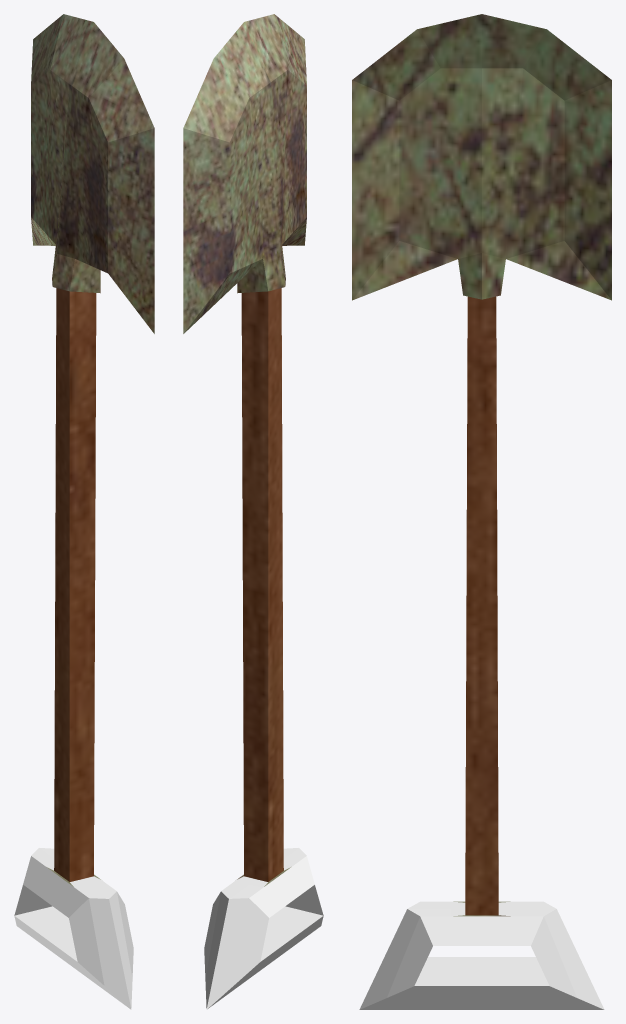
The model's file is lopata.glb.
The picture shows the model from 3 angles, left to right: view 1: azimuth 30°, elevation 25°; view 2: azimuth 150°, elevation 25°; view 3: azimuth 270°, elevation 25°; orthographic projection. The views are drawn at different scales.
Parts seen in each view (by area): view 1: Lopata; view 2: Lopata; view 3: Lopata.
Boxes of the visible parts, x1,y1,x2,y2 form: Lopata: [14, 14, 154, 1009]; Lopata: [183, 14, 323, 1009]; Lopata: [352, 14, 611, 1009].
Bounding box in the file's own units: 0.1039 × 1.66 × 0.3894.
3 materials, 2 textured.
